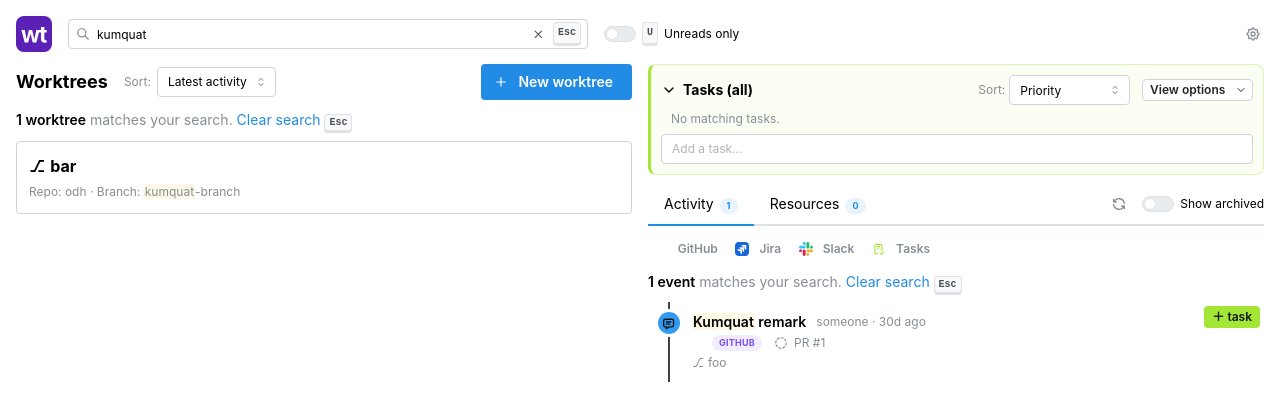
Test: HomePage search › heads each pane with its match count and a way to clear the search
This screenshot has width=1280, height=399.
The feed's line waits for the debounced query to reach the server.
Click the tab "Resources 0".
click(818, 206)  # box left=754, top=187, right=882, bottom=226
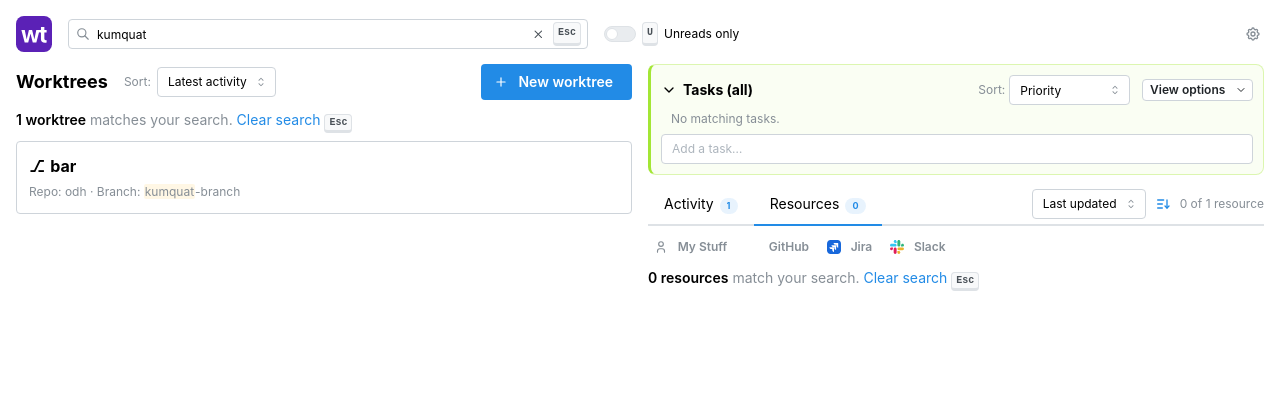
Click the button "Clear search" next to "match your search.".
click(905, 278)  # box left=864, top=268, right=947, bottom=288
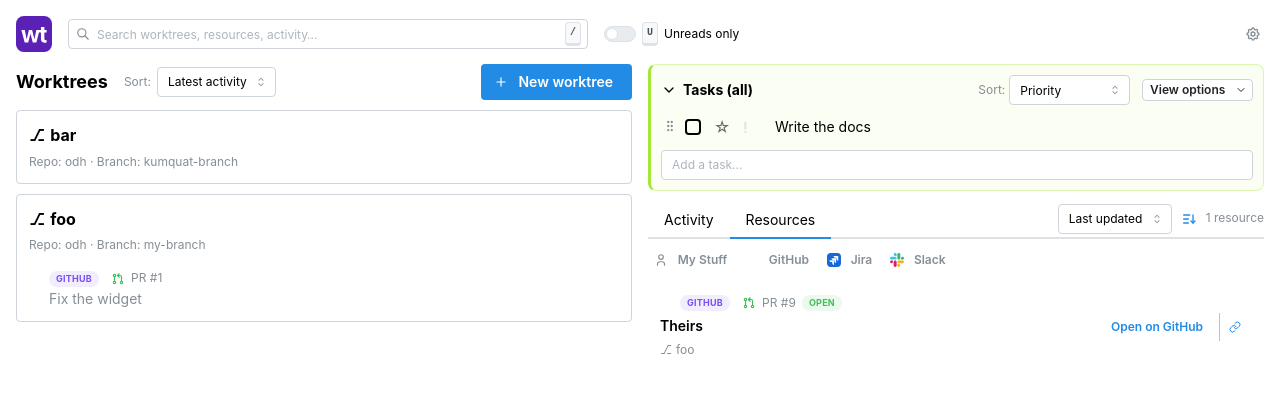
Now the element with test id "search-summary" is gone
